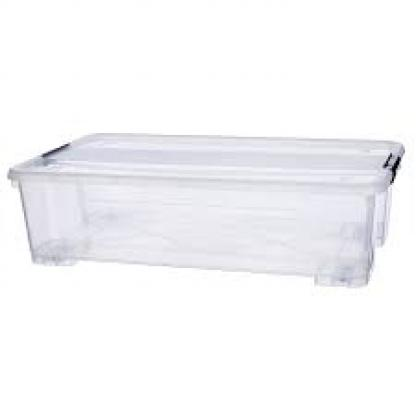plastic_box: (6, 100, 408, 309)
